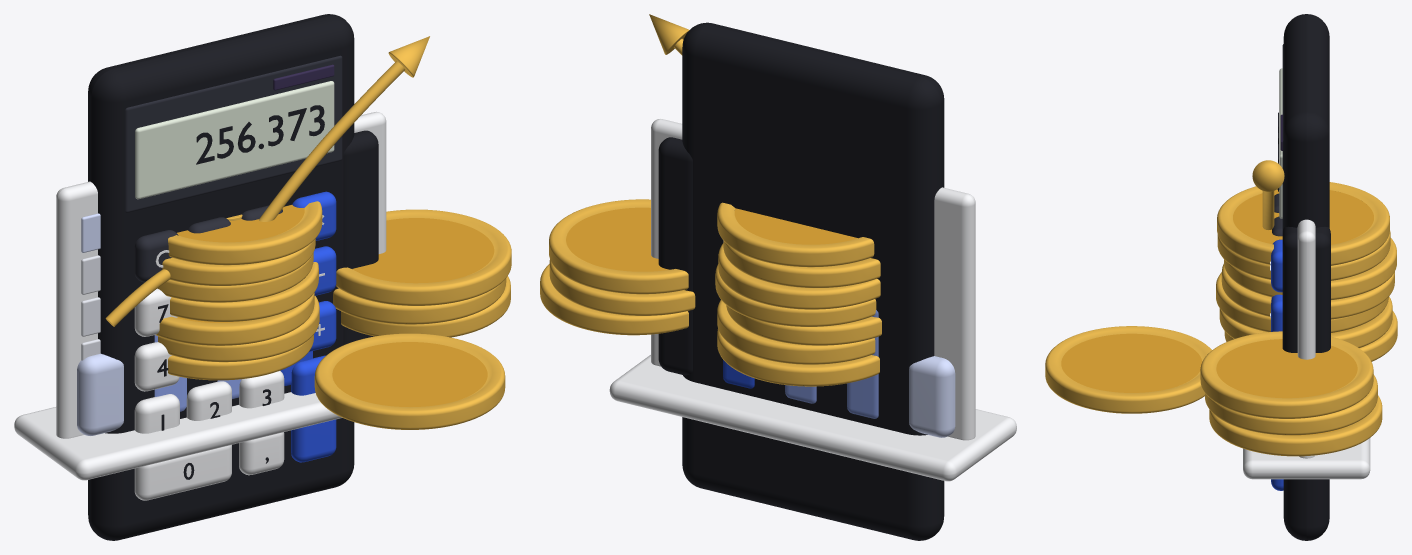
Rendered from escena.glb.
The picture shows the model from 3 angles, left to right: view 1: azimuth 30°, elevation 25°; view 2: azimuth 150°, elevation 25°; view 3: azimuth 270°, elevation 25°; orthographic projection. The views are drawn at different scales.
Visible parts, largest first — view 1: calculadora_tinta, monedas_oro, monedas_oro_hondo, calculadora_pantalla, calculadora_blanco, barras_blanco, calculadora_grafito, hoja_blanco, calculadora_cobalto, barras_tinta, barras_oro, barras_palido (+4 smaller); view 2: calculadora_tinta, monedas_oro, barras_blanco, hoja_blanco, monedas_oro_hondo, barras_tinta, barras_palido, barras_celeste, barras_oro; view 3: monedas_oro, monedas_oro_hondo, calculadora_tinta, barras_tinta, barras_blanco, hoja_blanco, barras_oro, calculadora_cobalto, calculadora_grafito, calculadora_pantalla.
Boxes of the visible parts, bbox=[...] form: calculadora_tinta: bbox=[88, 14, 354, 540]; monedas_oro: bbox=[156, 201, 511, 429]; monedas_oro_hondo: bbox=[176, 205, 494, 406]; calculadora_pantalla: bbox=[135, 81, 334, 199]; calculadora_blanco: bbox=[134, 215, 324, 500]; barras_blanco: bbox=[14, 392, 342, 480]; calculadora_grafito: bbox=[125, 55, 342, 282]; hoja_blanco: bbox=[56, 111, 386, 438]; calculadora_cobalto: bbox=[291, 191, 336, 462]; barras_tinta: bbox=[343, 130, 378, 345]; barras_oro: bbox=[105, 36, 429, 326]; barras_palido: bbox=[77, 353, 123, 435]; calculadora_tinta: bbox=[682, 22, 944, 540]; monedas_oro: bbox=[540, 199, 881, 386]; barras_blanco: bbox=[609, 355, 1016, 481]; hoja_blanco: bbox=[651, 119, 975, 440]; monedas_oro_hondo: bbox=[566, 207, 857, 271]; barras_tinta: bbox=[658, 137, 692, 375]; barras_palido: bbox=[909, 356, 955, 437]; barras_celeste: bbox=[785, 310, 878, 418]; barras_oro: bbox=[649, 14, 689, 55]; monedas_oro: bbox=[1045, 182, 1397, 456]; monedas_oro_hondo: bbox=[1061, 190, 1373, 435]; calculadora_tinta: bbox=[1278, 14, 1329, 540]; barras_tinta: bbox=[1282, 226, 1330, 352]; barras_blanco: bbox=[1243, 438, 1370, 479]; hoja_blanco: bbox=[1297, 219, 1315, 458]; barras_oro: bbox=[1252, 160, 1284, 229]; calculadora_cobalto: bbox=[1271, 239, 1283, 490]; calculadora_grafito: bbox=[1272, 44, 1283, 236]; calculadora_pantalla: bbox=[1279, 68, 1282, 218].
Size of the model in its own units: 3.68 by 3.7 by 2.77.
Materials: 7 (7 with a texture image).
